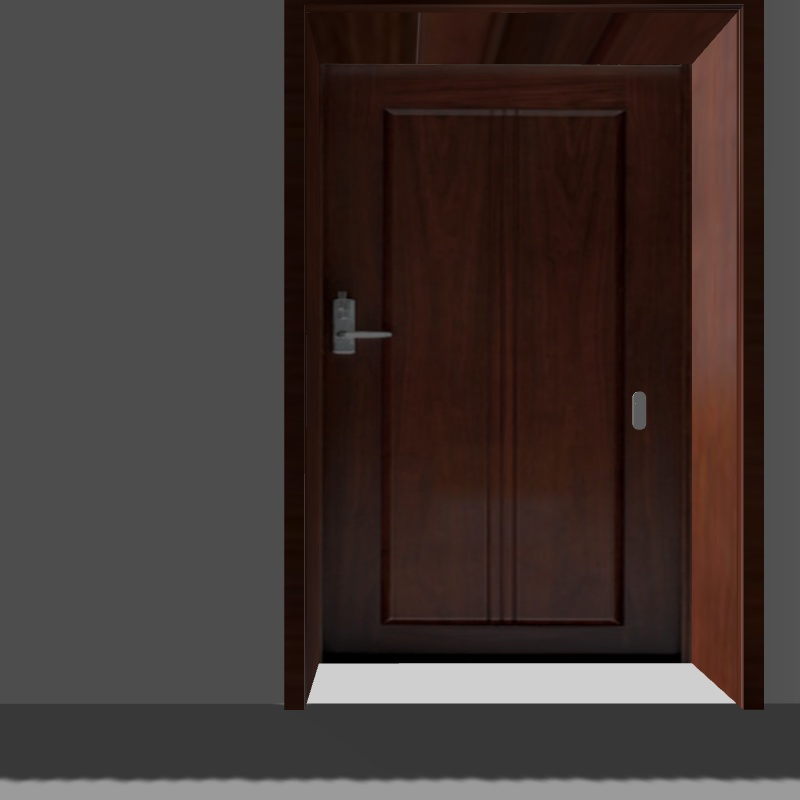handle: (325, 291, 392, 362)
